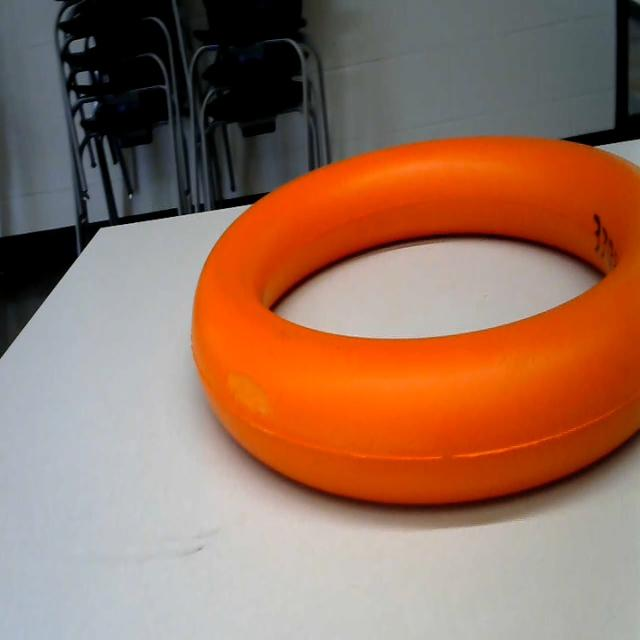note: (157, 111, 640, 508)
